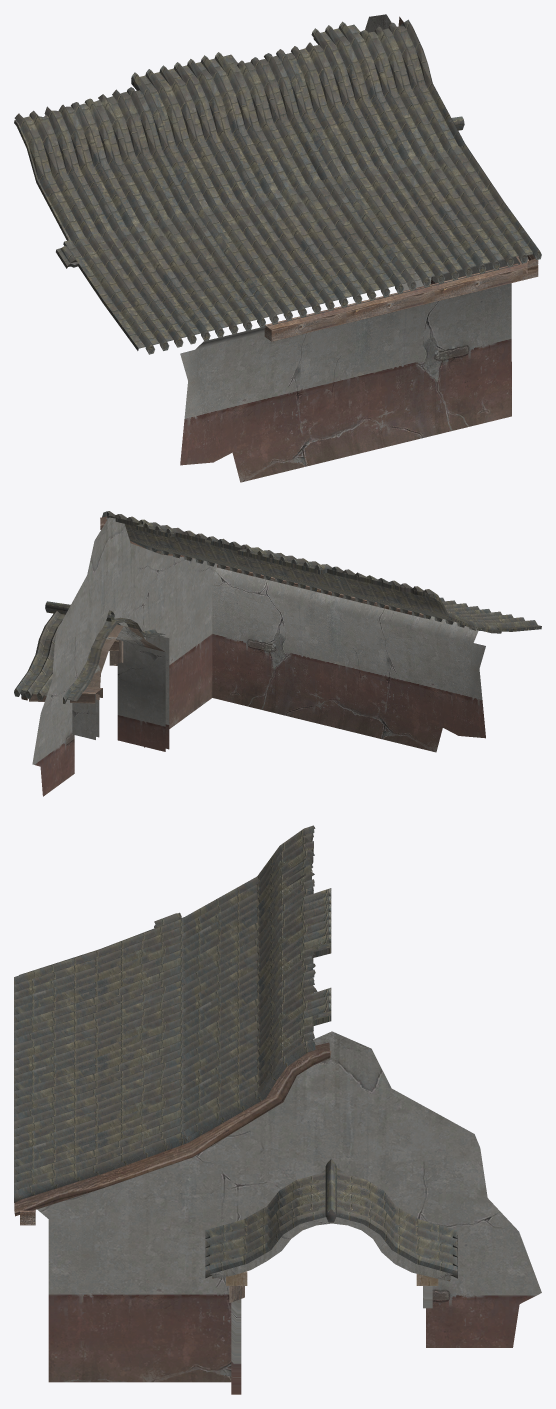
Rendered from bg_anh_mirrorv_bd10_sm_old.FBX.
3 renders of one model, top to bottom at view 1: azimuth 30°, elevation 25°; view 2: azimuth 150°, elevation 25°; view 3: azimuth 270°, elevation 25°, orthographic. The views are drawn at different scales.
Visible parts, largest first — view 1: bg_anh_mirrorv_bd10_sm_old; view 2: bg_anh_mirrorv_bd10_sm_old; view 3: bg_anh_mirrorv_bd10_sm_old.
Boxes of the visible parts, x1,y1,x2,y2 form: bg_anh_mirrorv_bd10_sm_old: (14,14,541,482); bg_anh_mirrorv_bd10_sm_old: (14,511,541,796); bg_anh_mirrorv_bd10_sm_old: (14,825,541,1394).
Bounding box in the file's own units: 871 × 552 × 744.
